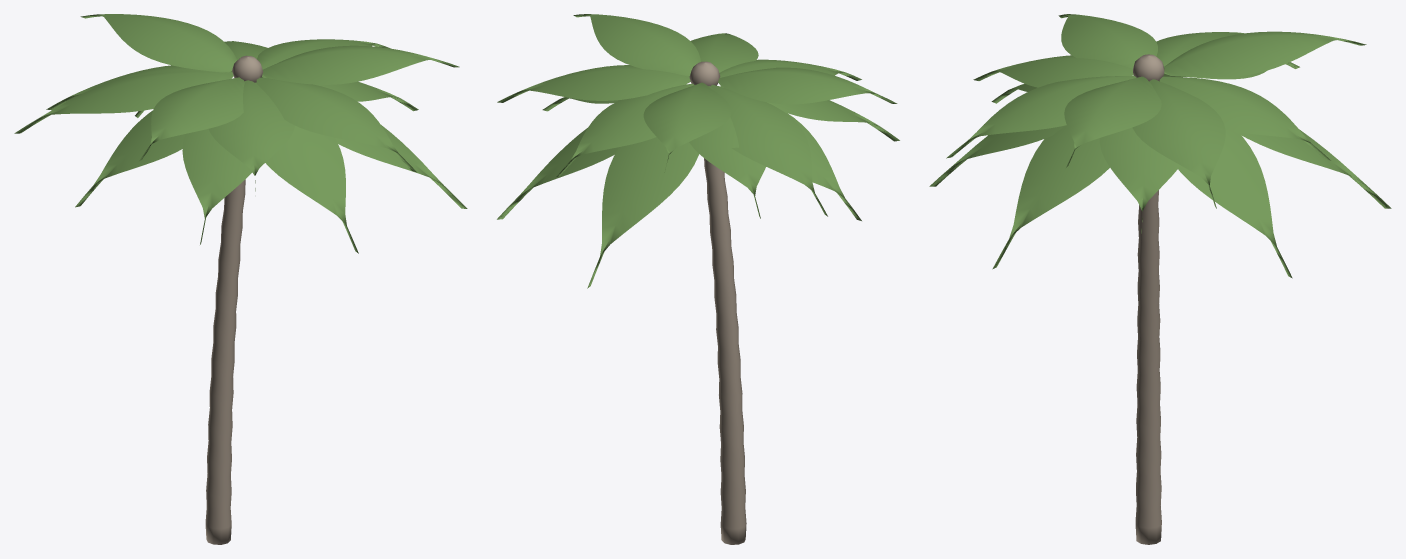
File: palm.glb
The picture shows the model from 3 angles, left to right: view 1: azimuth 30°, elevation 25°; view 2: azimuth 150°, elevation 25°; view 3: azimuth 270°, elevation 25°; orthographic projection. The views are drawn at different scales.
Visible parts, largest first — view 1: palm; view 2: palm; view 3: palm.
Boxes of the visible parts, bbox=[...] form: palm: bbox=[14, 14, 467, 544]; palm: bbox=[497, 14, 899, 544]; palm: bbox=[929, 14, 1391, 544].
Bounding box in the file's own units: 7.38 × 9.43 × 7.89.
